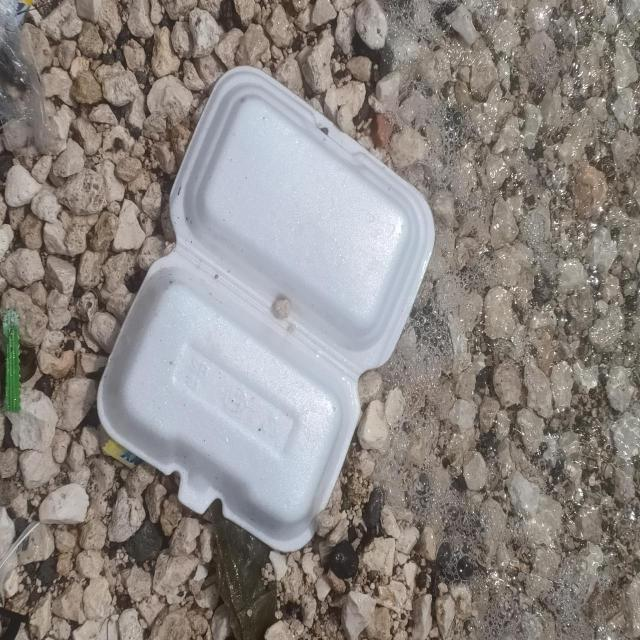plastic_waste: (1, 306, 23, 414)
styrofoam_waste: (97, 67, 439, 549)
